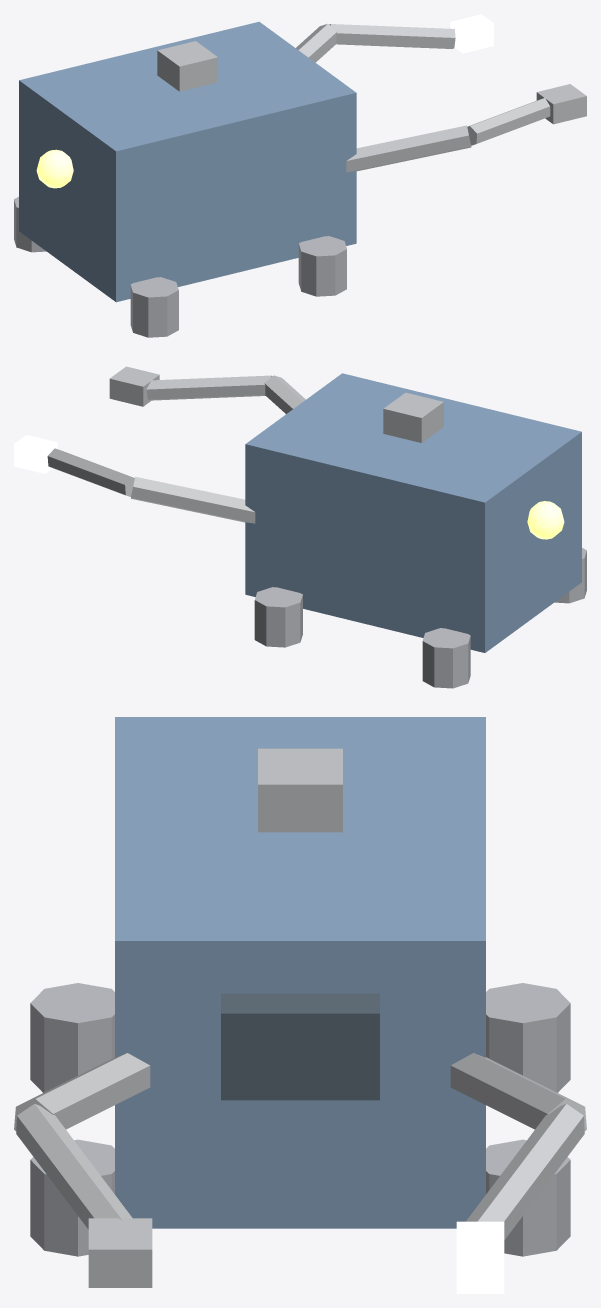
The model's file is place_welding_drone.glb.
3 views of the same model, one above another, from view 1: azimuth 30°, elevation 25°; view 2: azimuth 150°, elevation 25°; view 3: azimuth 270°, elevation 25° (orthographic). The views are drawn at different scales.
Parts seen in each view (by area): view 1: body, thrusters, arm1_a, arm0_b, hook, arm1_b, gripper, torch, tail, arm0_a; view 2: body, thrusters, arm0_a, arm1_b, hook, arm0_b, gripper, torch, tail, arm1_a; view 3: body, thrusters, eye, hook, arm0_b, arm1_b, arm0_a, arm1_a, gripper, torch.
Boxes of the visible parts, box(x1,y1,x2,y2) form: body: box(19, 21, 356, 302); thrusters: box(14, 196, 346, 337); arm1_a: box(346, 125, 471, 172); arm0_b: box(329, 24, 455, 48); hook: box(157, 41, 217, 91); arm1_b: box(467, 97, 550, 145); gripper: box(536, 84, 586, 124); torch: box(450, 14, 493, 53); tail: box(36, 149, 73, 188); arm0_a: box(296, 24, 337, 62); body: box(245, 373, 581, 652); thrusters: box(254, 548, 586, 688); arm0_a: box(130, 476, 255, 523); arm1_b: box(146, 375, 272, 400); hook: box(383, 392, 443, 442); arm0_b: box(47, 448, 134, 496); gripper: box(109, 366, 159, 406); torch: box(14, 435, 57, 473); tail: box(527, 501, 564, 539); arm1_a: box(264, 375, 305, 413); body: box(115, 717, 485, 1228); thrusters: box(30, 983, 570, 1256); eye: box(221, 993, 379, 1100); hook: box(258, 748, 342, 832); arm0_b: box(466, 1104, 584, 1239); arm1_b: box(16, 1104, 132, 1229); arm0_a: box(450, 1053, 586, 1131); arm1_a: box(14, 1053, 150, 1131); gripper: box(88, 1218, 152, 1287); torch: box(456, 1221, 504, 1293).
Bounding box in the file's own units: 2.06 × 0.83 × 1.08.
